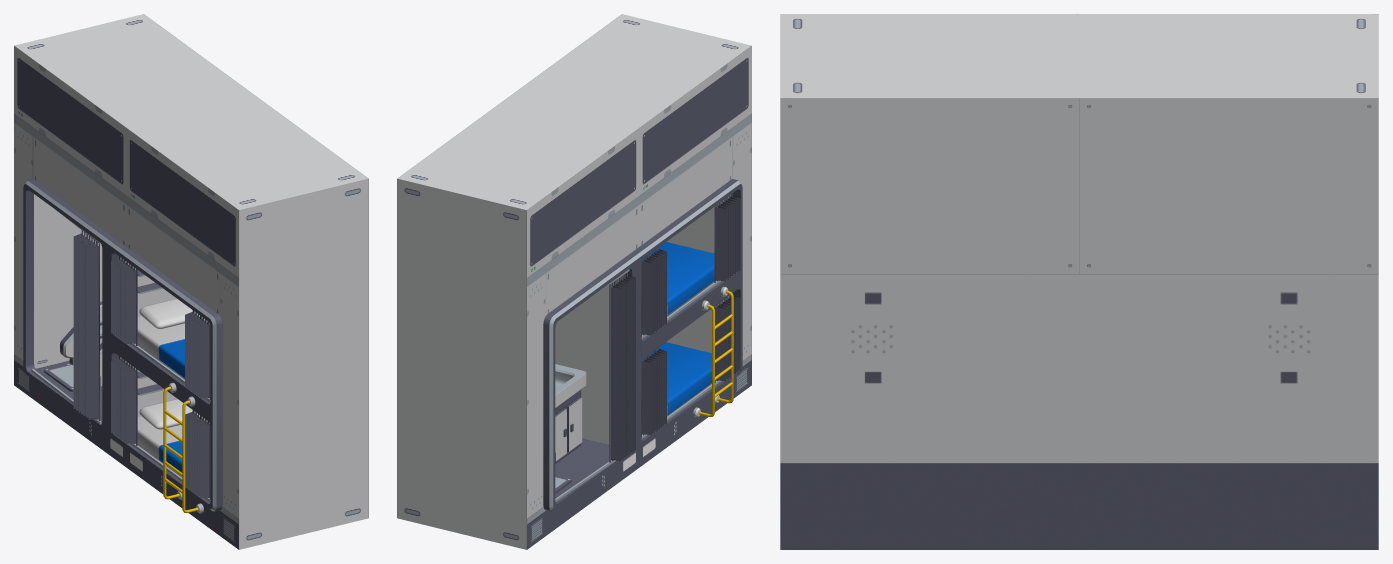
File: Wall_Bed_Double_01.FBX
3 views of the same model, side by side, from view 1: azimuth 30°, elevation 25°; view 2: azimuth 150°, elevation 25°; view 3: azimuth 270°, elevation 25° (orthographic). The views are drawn at different scales.
Visible parts, largest first — view 1: Wall_Bed_Double_01, Bed_B, Bed_A, WC_01; view 2: Wall_Bed_Double_01, Bed_B, Bed_A, Bassin, Door_Right, Door_Left; view 3: Wall_Bed_Double_01.
Part boxes in pixels (left/top/right/bottom): Wall_Bed_Double_01: left=14, top=14, right=368, bottom=549; Bed_B: left=137, top=298, right=209, bottom=377; Bed_A: left=137, top=399, right=209, bottom=472; WC_01: left=44, top=301, right=102, bottom=391; Wall_Bed_Double_01: left=397, top=14, right=751, bottom=549; Bed_B: left=642, top=242, right=714, bottom=314; Bed_A: left=642, top=342, right=711, bottom=415; Bassin: left=555, top=364, right=586, bottom=464; Door_Right: left=567, top=396, right=582, bottom=451; Door_Left: left=555, top=408, right=566, bottom=461; Wall_Bed_Double_01: left=780, top=14, right=1378, bottom=549.
Bounding box in the file's own units: 2.3 × 5 × 6.
Materials: 4 (4 with a texture image).
